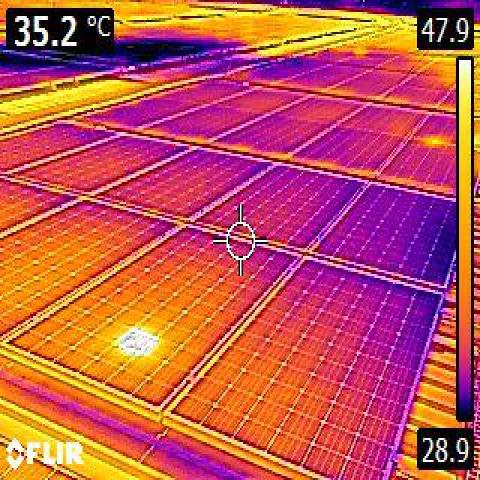fault: (117, 325, 156, 357)
